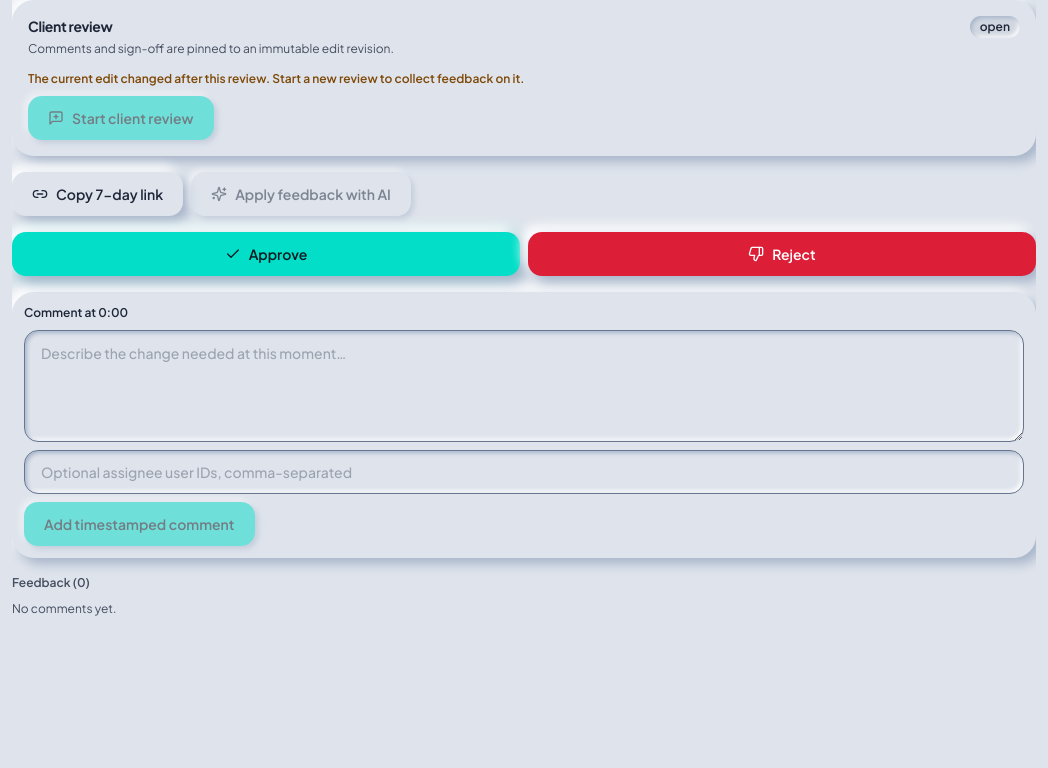
Scenario: ReviewPanel share link › says copied only when the copy worked
Click the button "Copy 7-day link" at {"x": 98, "y": 194}, box top-left (12, 172), bottom-right (183, 216)
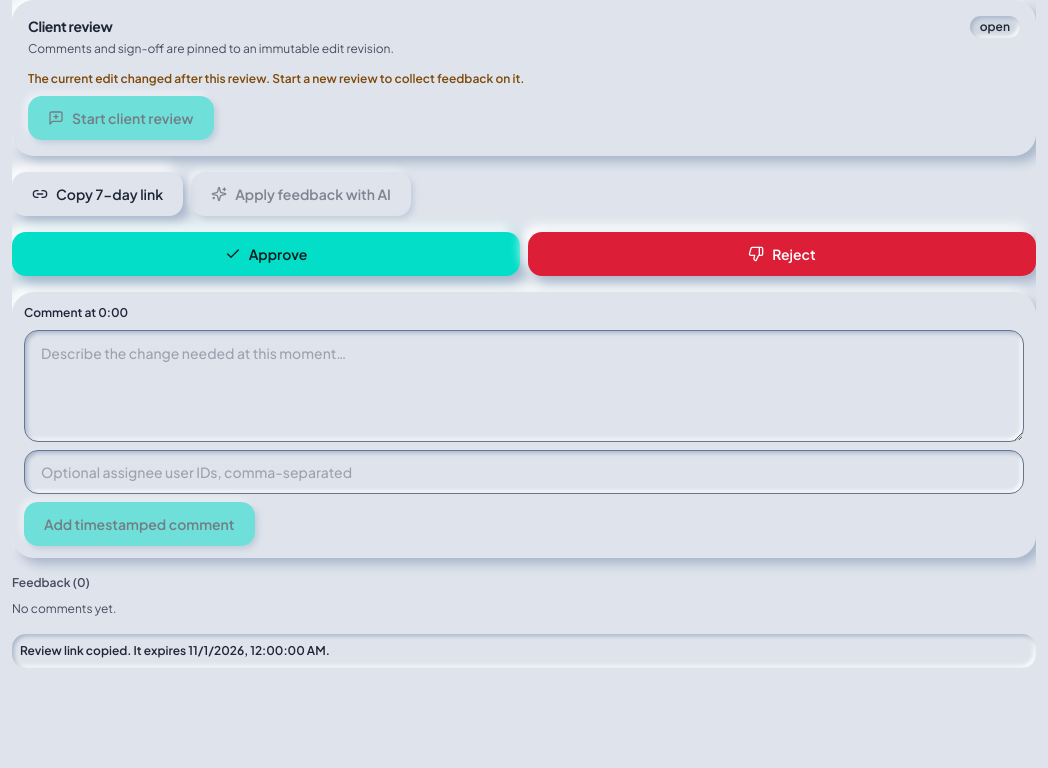
Check: the message shows "Review link copied", box top-left (20, 643), bottom-right (330, 658)
